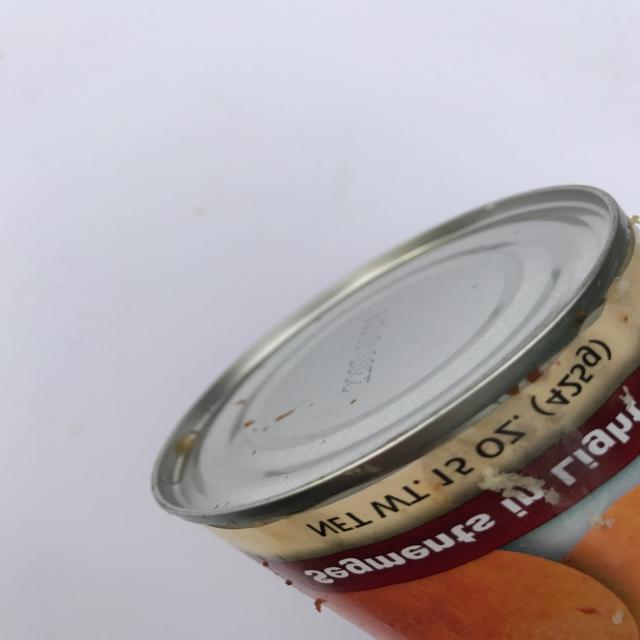metal: (67, 159, 634, 640)
